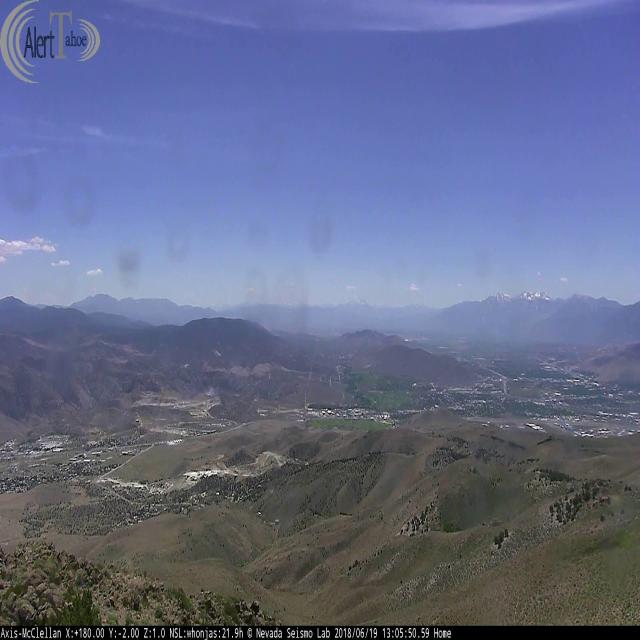smoke: (204, 383, 226, 398)
